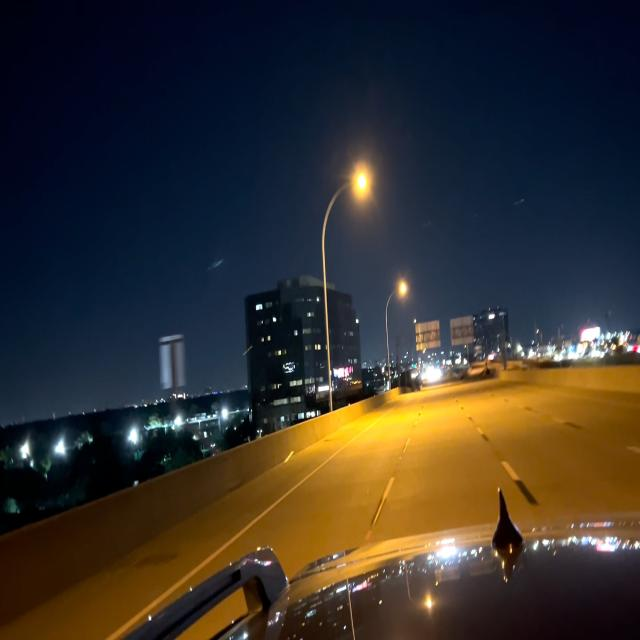back-of-sign: (158, 330, 187, 394), (416, 317, 442, 352), (450, 312, 476, 347)
